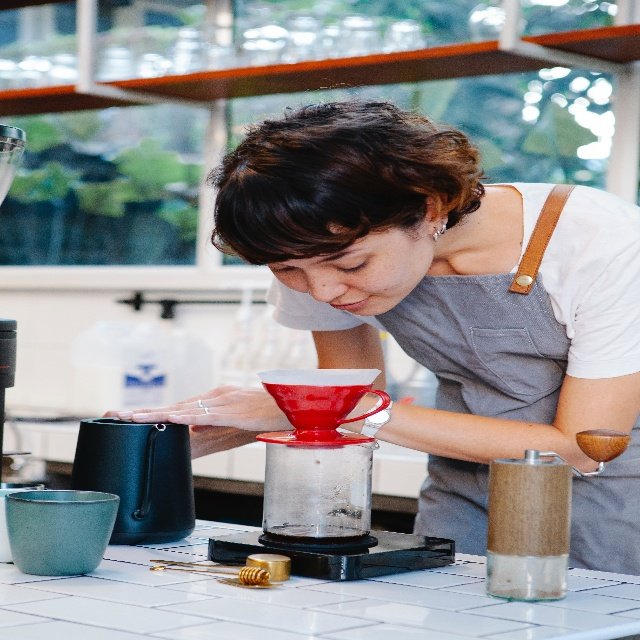Sin_guantes: (116, 384, 293, 433)
